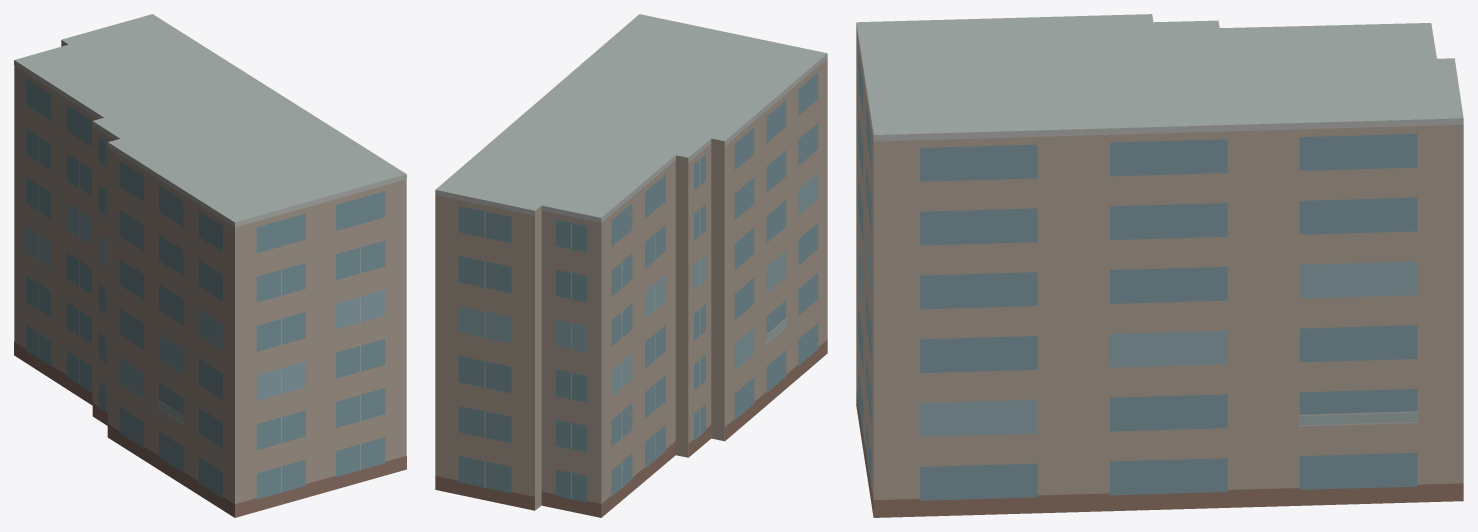
The model's file is survey-upis-32971063.glb.
3 views of the same model, side by side, from view 1: azimuth 30°, elevation 25°; view 2: azimuth 150°, elevation 25°; view 3: azimuth 270°, elevation 25° (orthographic). The views are drawn at different scales.
Parts seen in each view (by area): view 1: survey-upis-32971063.tmp; view 2: survey-upis-32971063.tmp; view 3: survey-upis-32971063.tmp.
Boxes of the visible parts, <box> form: survey-upis-32971063.tmp: <box>14,14,406,517</box>; survey-upis-32971063.tmp: <box>435,14,827,517</box>; survey-upis-32971063.tmp: <box>856,14,1463,517</box>.
Size of the model in its own units: 9.85 by 14.5 by 20.86.
